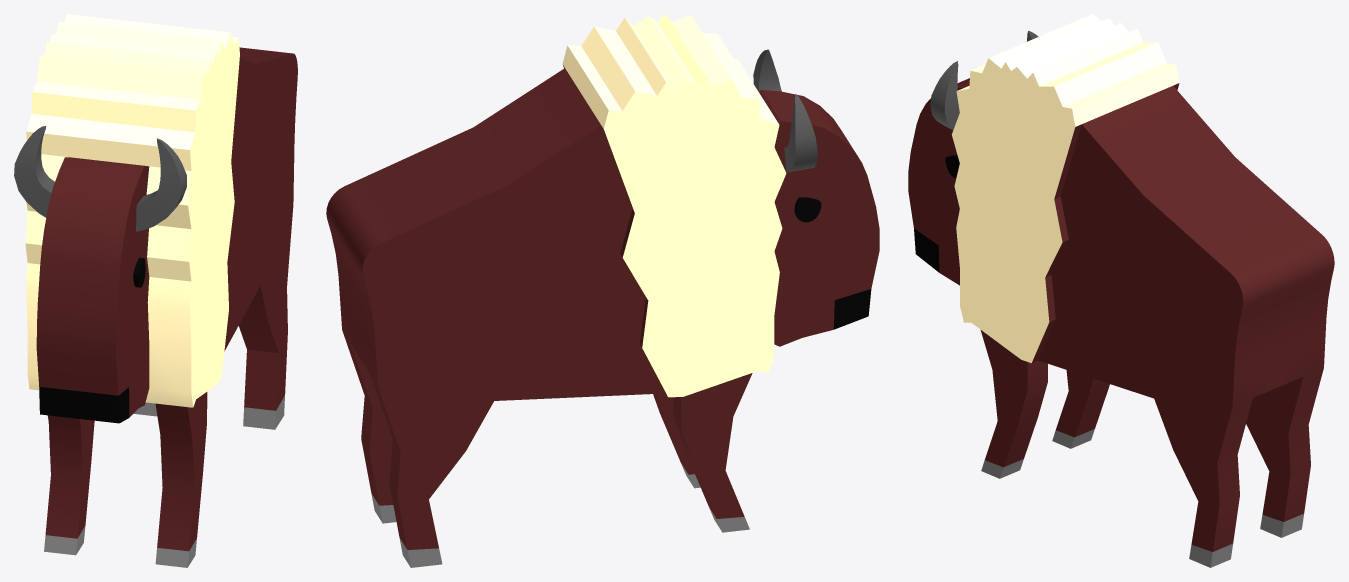
Rendered from bison.glb.
3 renders of one model, left to right at view 1: azimuth 30°, elevation 25°; view 2: azimuth 150°, elevation 25°; view 3: azimuth 270°, elevation 25°, orthographic. The views are drawn at different scales.
Visible parts, largest first — view 1: Plane.116; view 2: Plane.116; view 3: Plane.116.
Boxes of the visible parts, left/top/right/bottom form: Plane.116: left=14, top=14, right=297, bottom=567; Plane.116: left=326, top=14, right=879, bottom=567; Plane.116: left=908, top=14, right=1334, bottom=567.
Bounding box in the file's own units: 1.91 × 2.11 × 1.91.
1 material, 1 textured.
